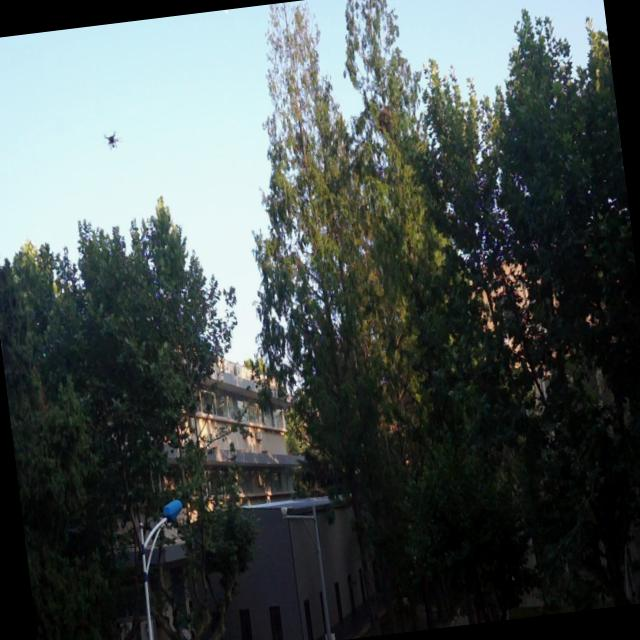drone: (100, 124, 122, 154)
